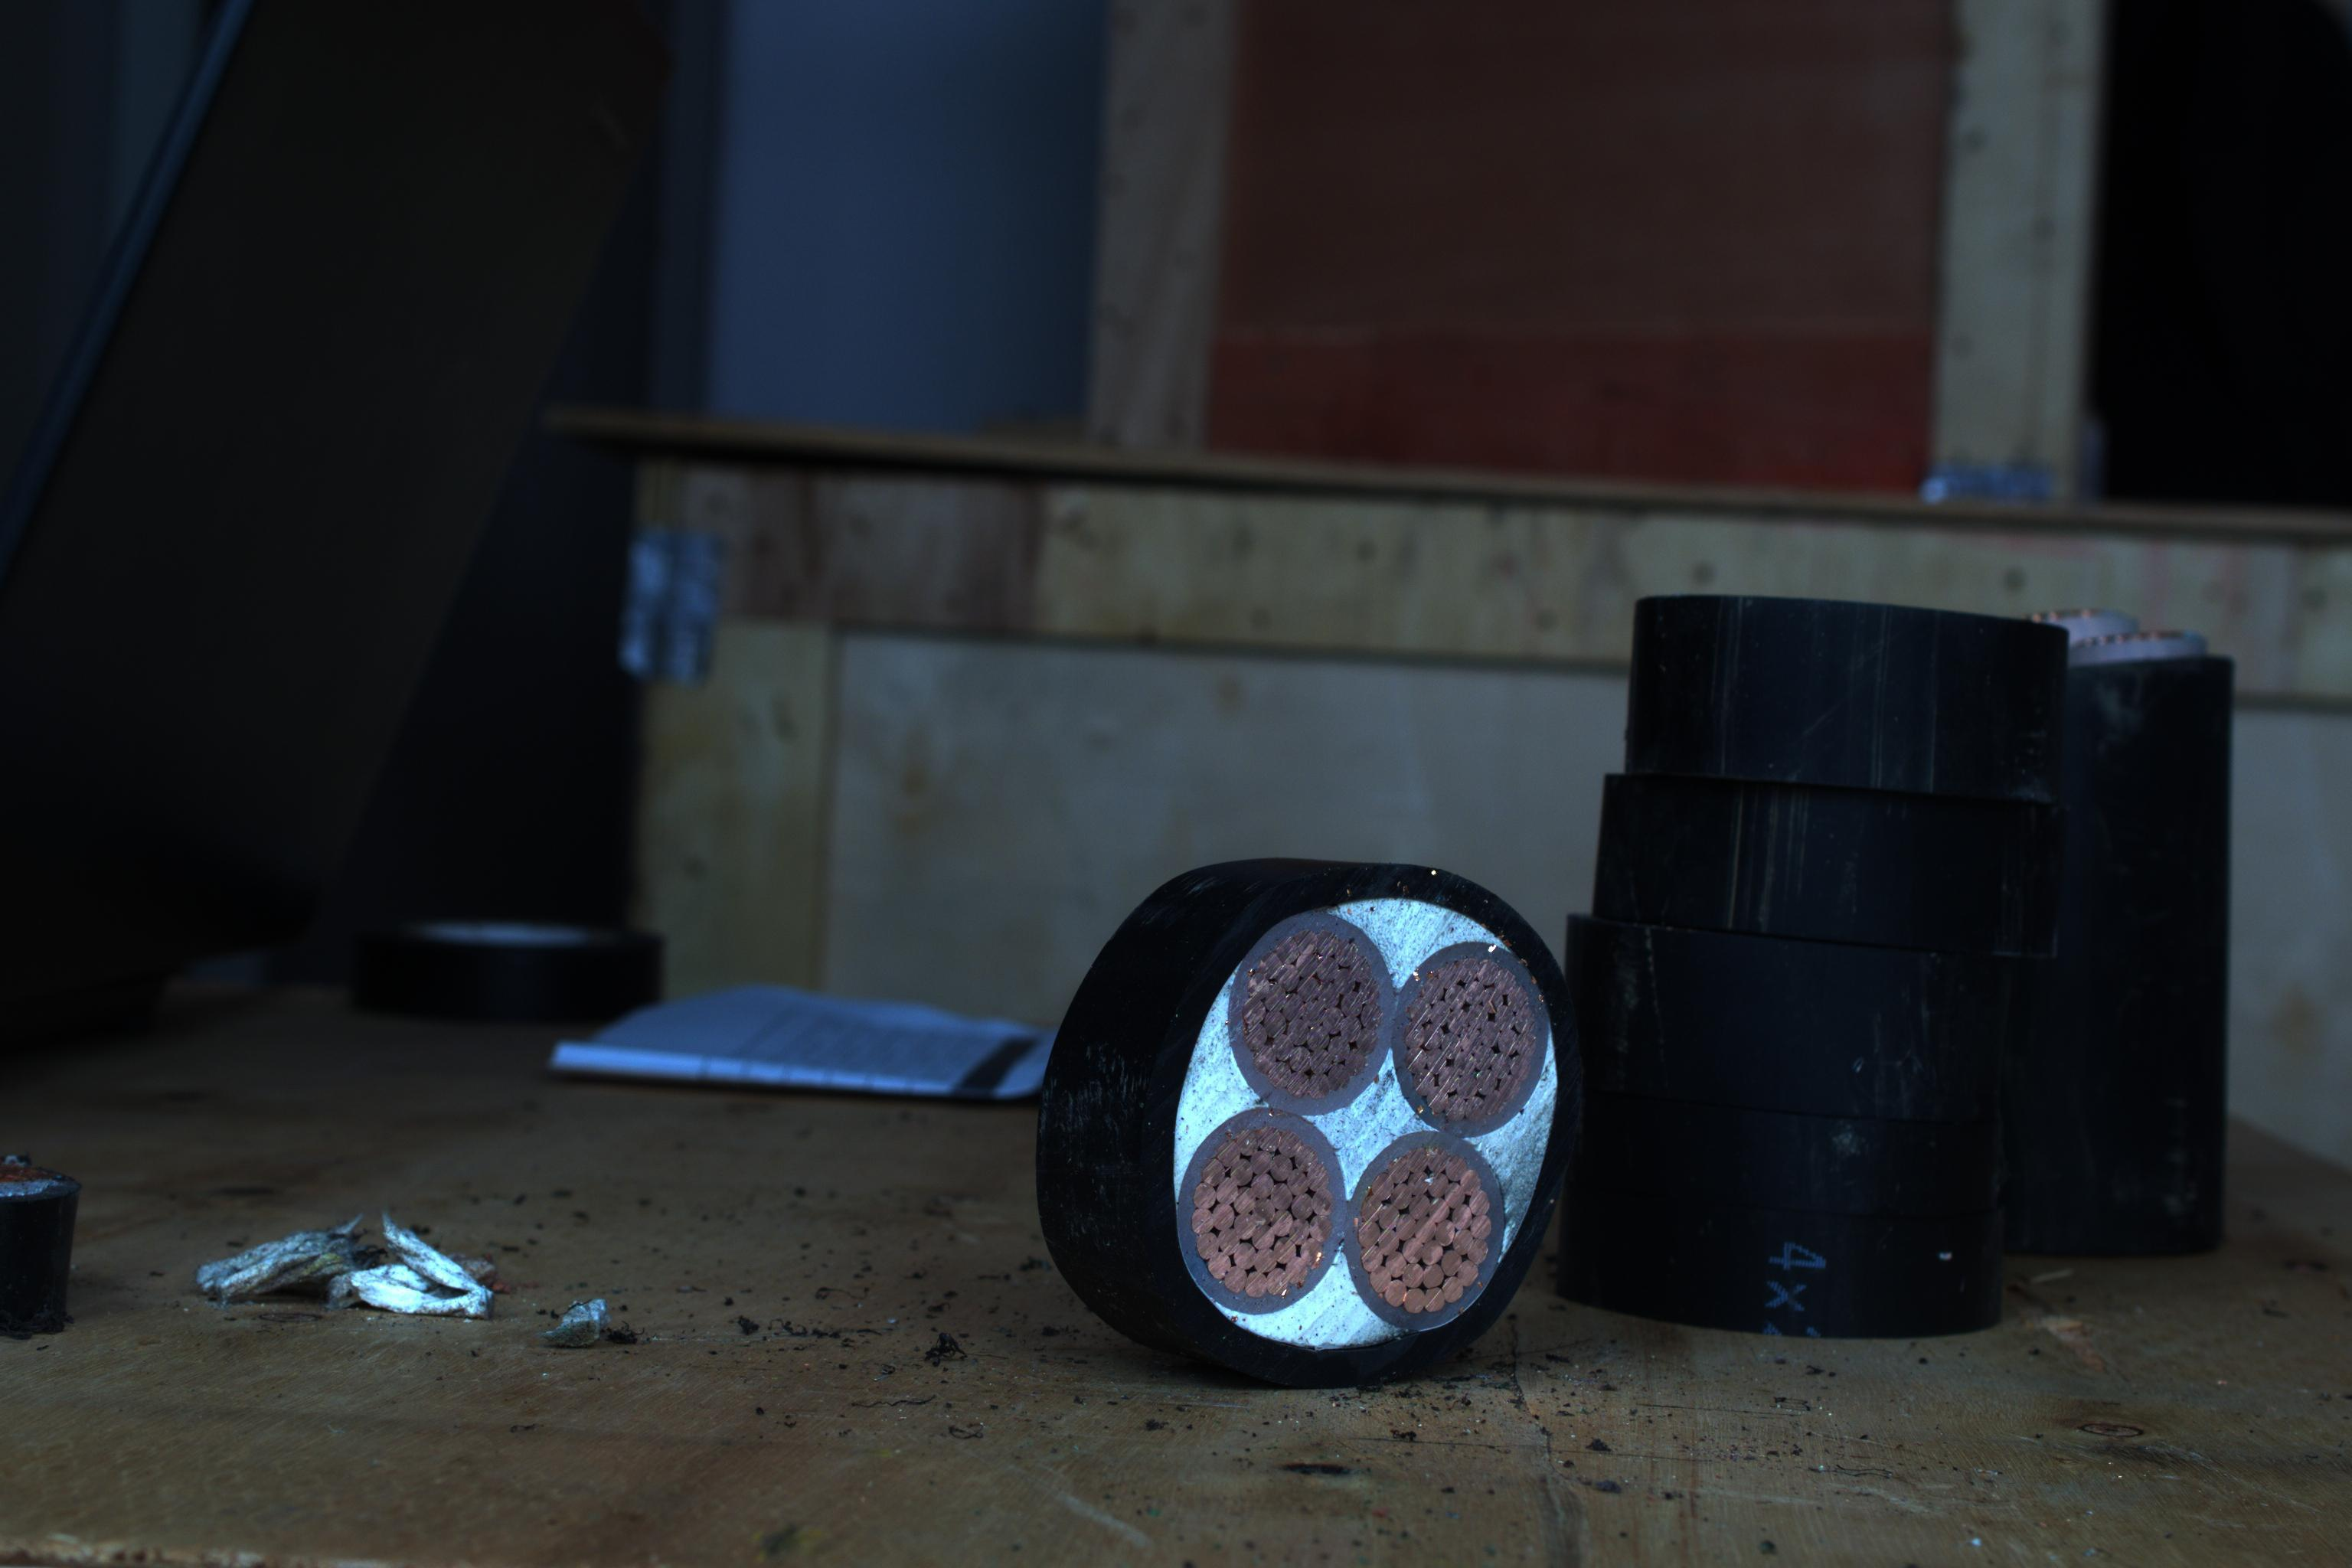YJV_0.6_1kV_4x240: (1153, 875, 1596, 1382)
